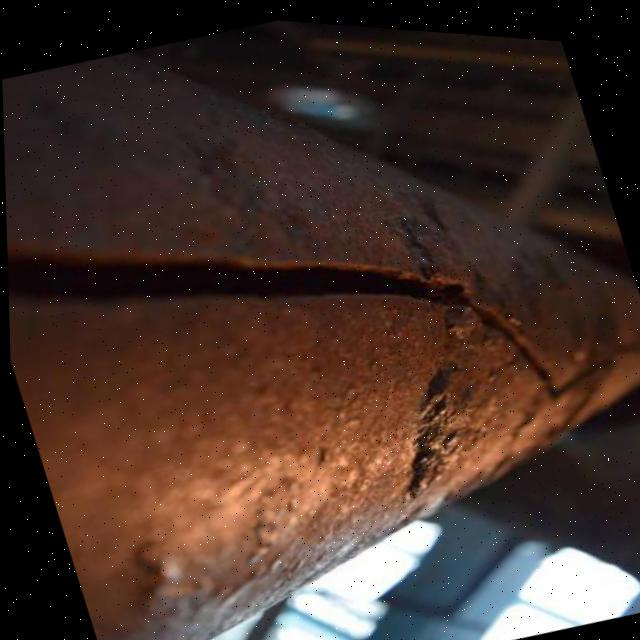crack: (7, 223, 475, 327), (480, 299, 640, 401)
